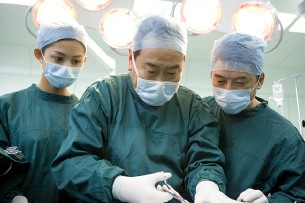Mask: (45, 49, 82, 86)
